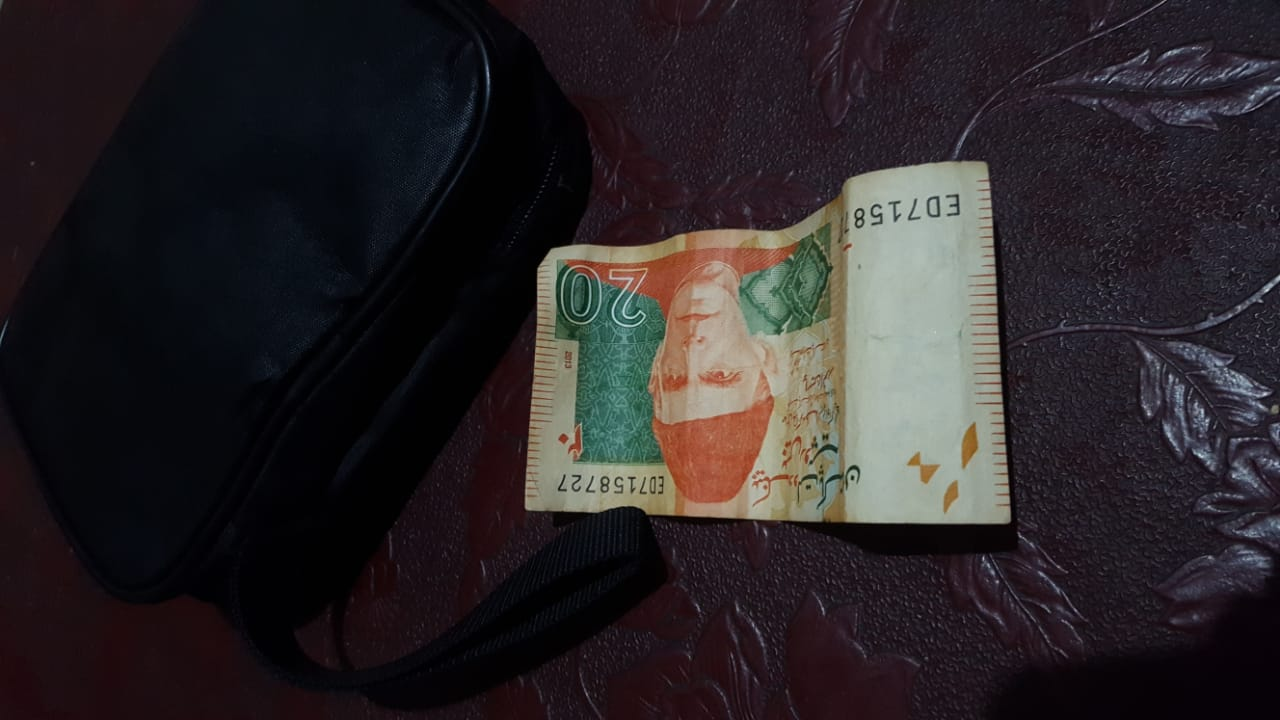20 rupee: (508, 154, 1008, 551)
